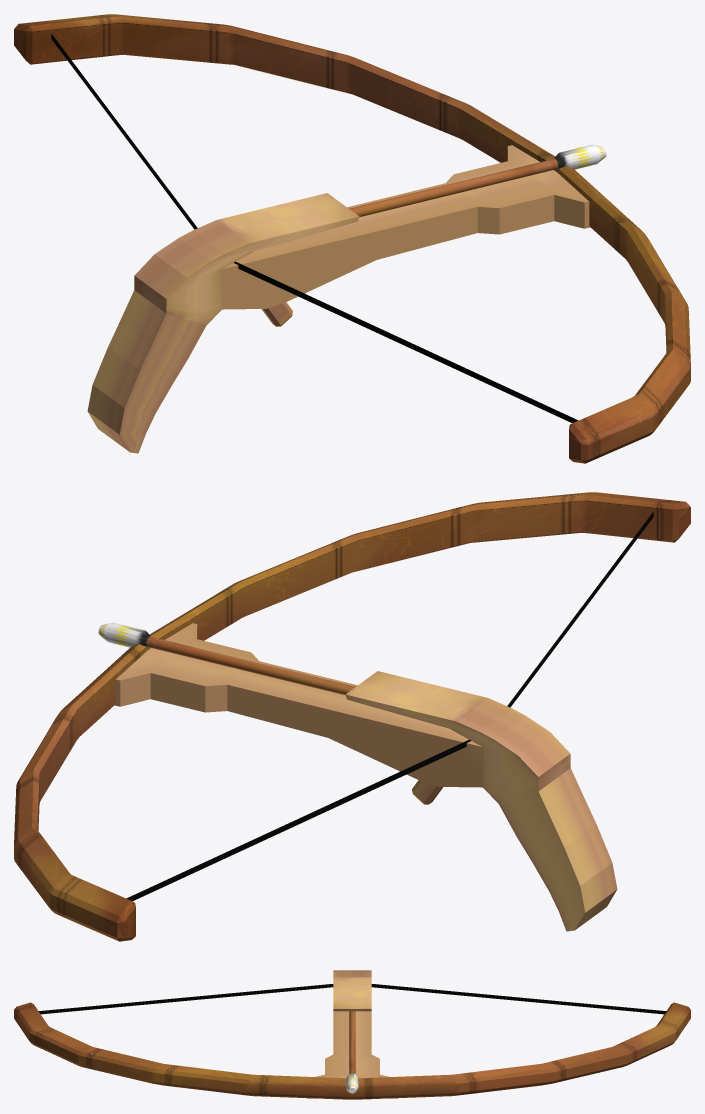
The picture shows the model from 3 angles, top to bottom: view 1: azimuth 30°, elevation 25°; view 2: azimuth 150°, elevation 25°; view 3: azimuth 270°, elevation 25°; orthographic projection. The views are drawn at different scales.
Parts seen in each view (by area): view 1: pCube1, pPipe1, pCylinder1, pPlane1; view 2: pCube1, pPipe1, pCylinder1, pPlane1; view 3: pPipe1, pCube1, pPlane1, pCylinder1.
Boxes of the visible parts, box(x1,y1,x2,y2) form: pCube1: box(87, 145, 590, 453); pPipe1: box(14, 14, 690, 463); pCylinder1: box(349, 144, 606, 217); pPlane1: box(51, 33, 578, 423); pCube1: box(114, 623, 617, 931); pPipe1: box(14, 492, 690, 941); pCylinder1: box(98, 622, 355, 695); pPlane1: box(126, 511, 653, 901); pPipe1: box(14, 1002, 690, 1099); pCube1: box(307, 970, 397, 1098); pPlane1: box(38, 984, 666, 1014); pCylinder1: box(346, 1011, 358, 1093).
Size of the model in its own units: 8.98 by 3.14 by 17.76.
Materials: 5 (4 with a texture image).
